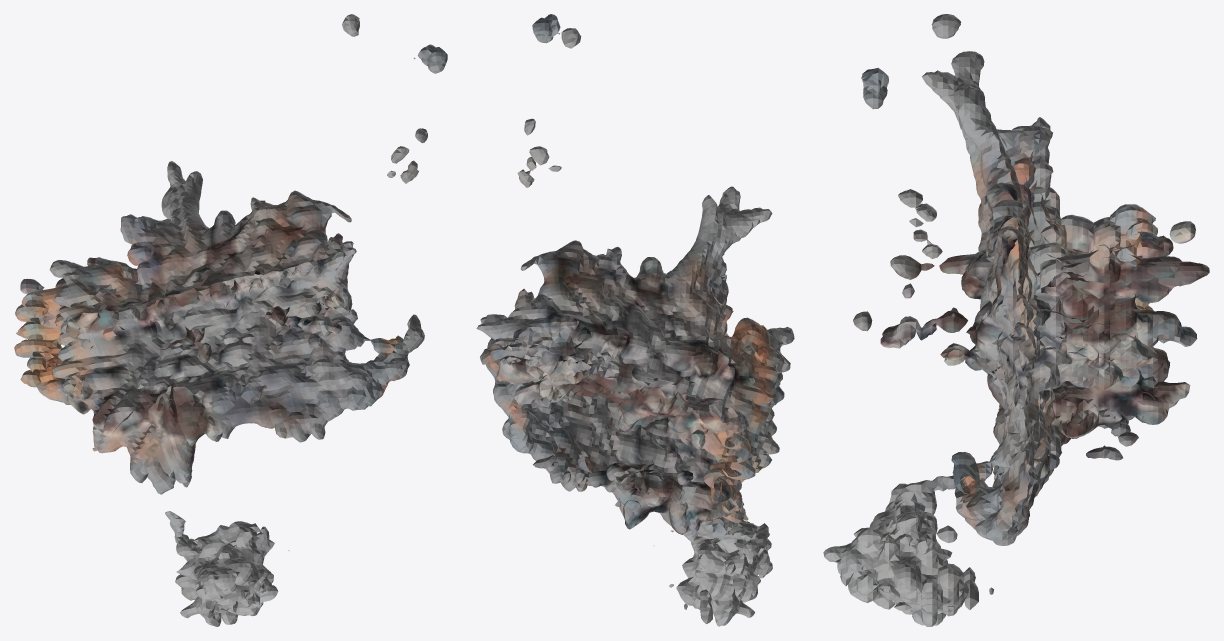
3 renders of one model, left to right at view 1: azimuth 30°, elevation 25°; view 2: azimuth 150°, elevation 25°; view 3: azimuth 270°, elevation 25°, orthographic. The views are drawn at different scales.
Visible parts, largest first — view 1: geometry_0; view 2: geometry_0; view 3: geometry_0.
Part boxes in pixels (left/top/right/bottom): geometry_0: left=14, top=14, right=447, bottom=626; geometry_0: left=476, top=14, right=794, bottom=626; geometry_0: left=823, top=14, right=1209, bottom=626.
Size of the model in its own units: 0.6162 by 0.9776 by 0.4893.
